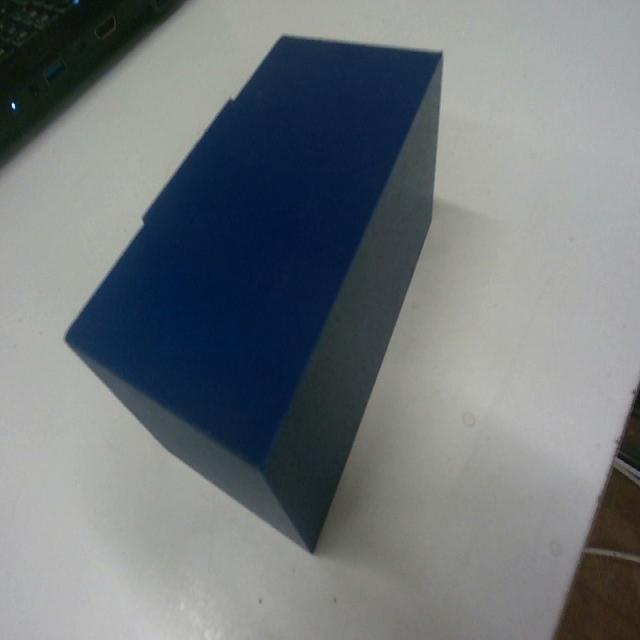Blue Cuboid: (62, 31, 445, 553)
